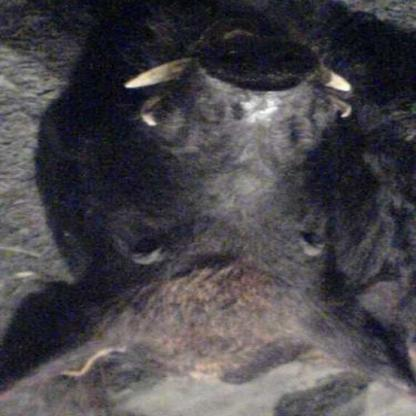boar: (8, 1, 415, 416)
